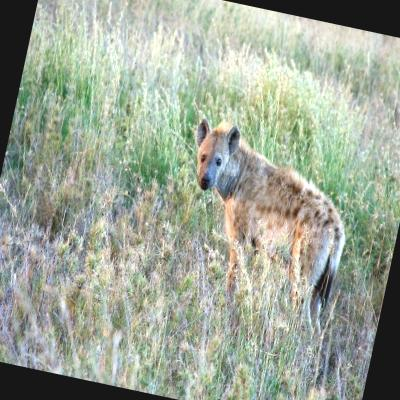hyenas: (110, 98, 375, 341)
